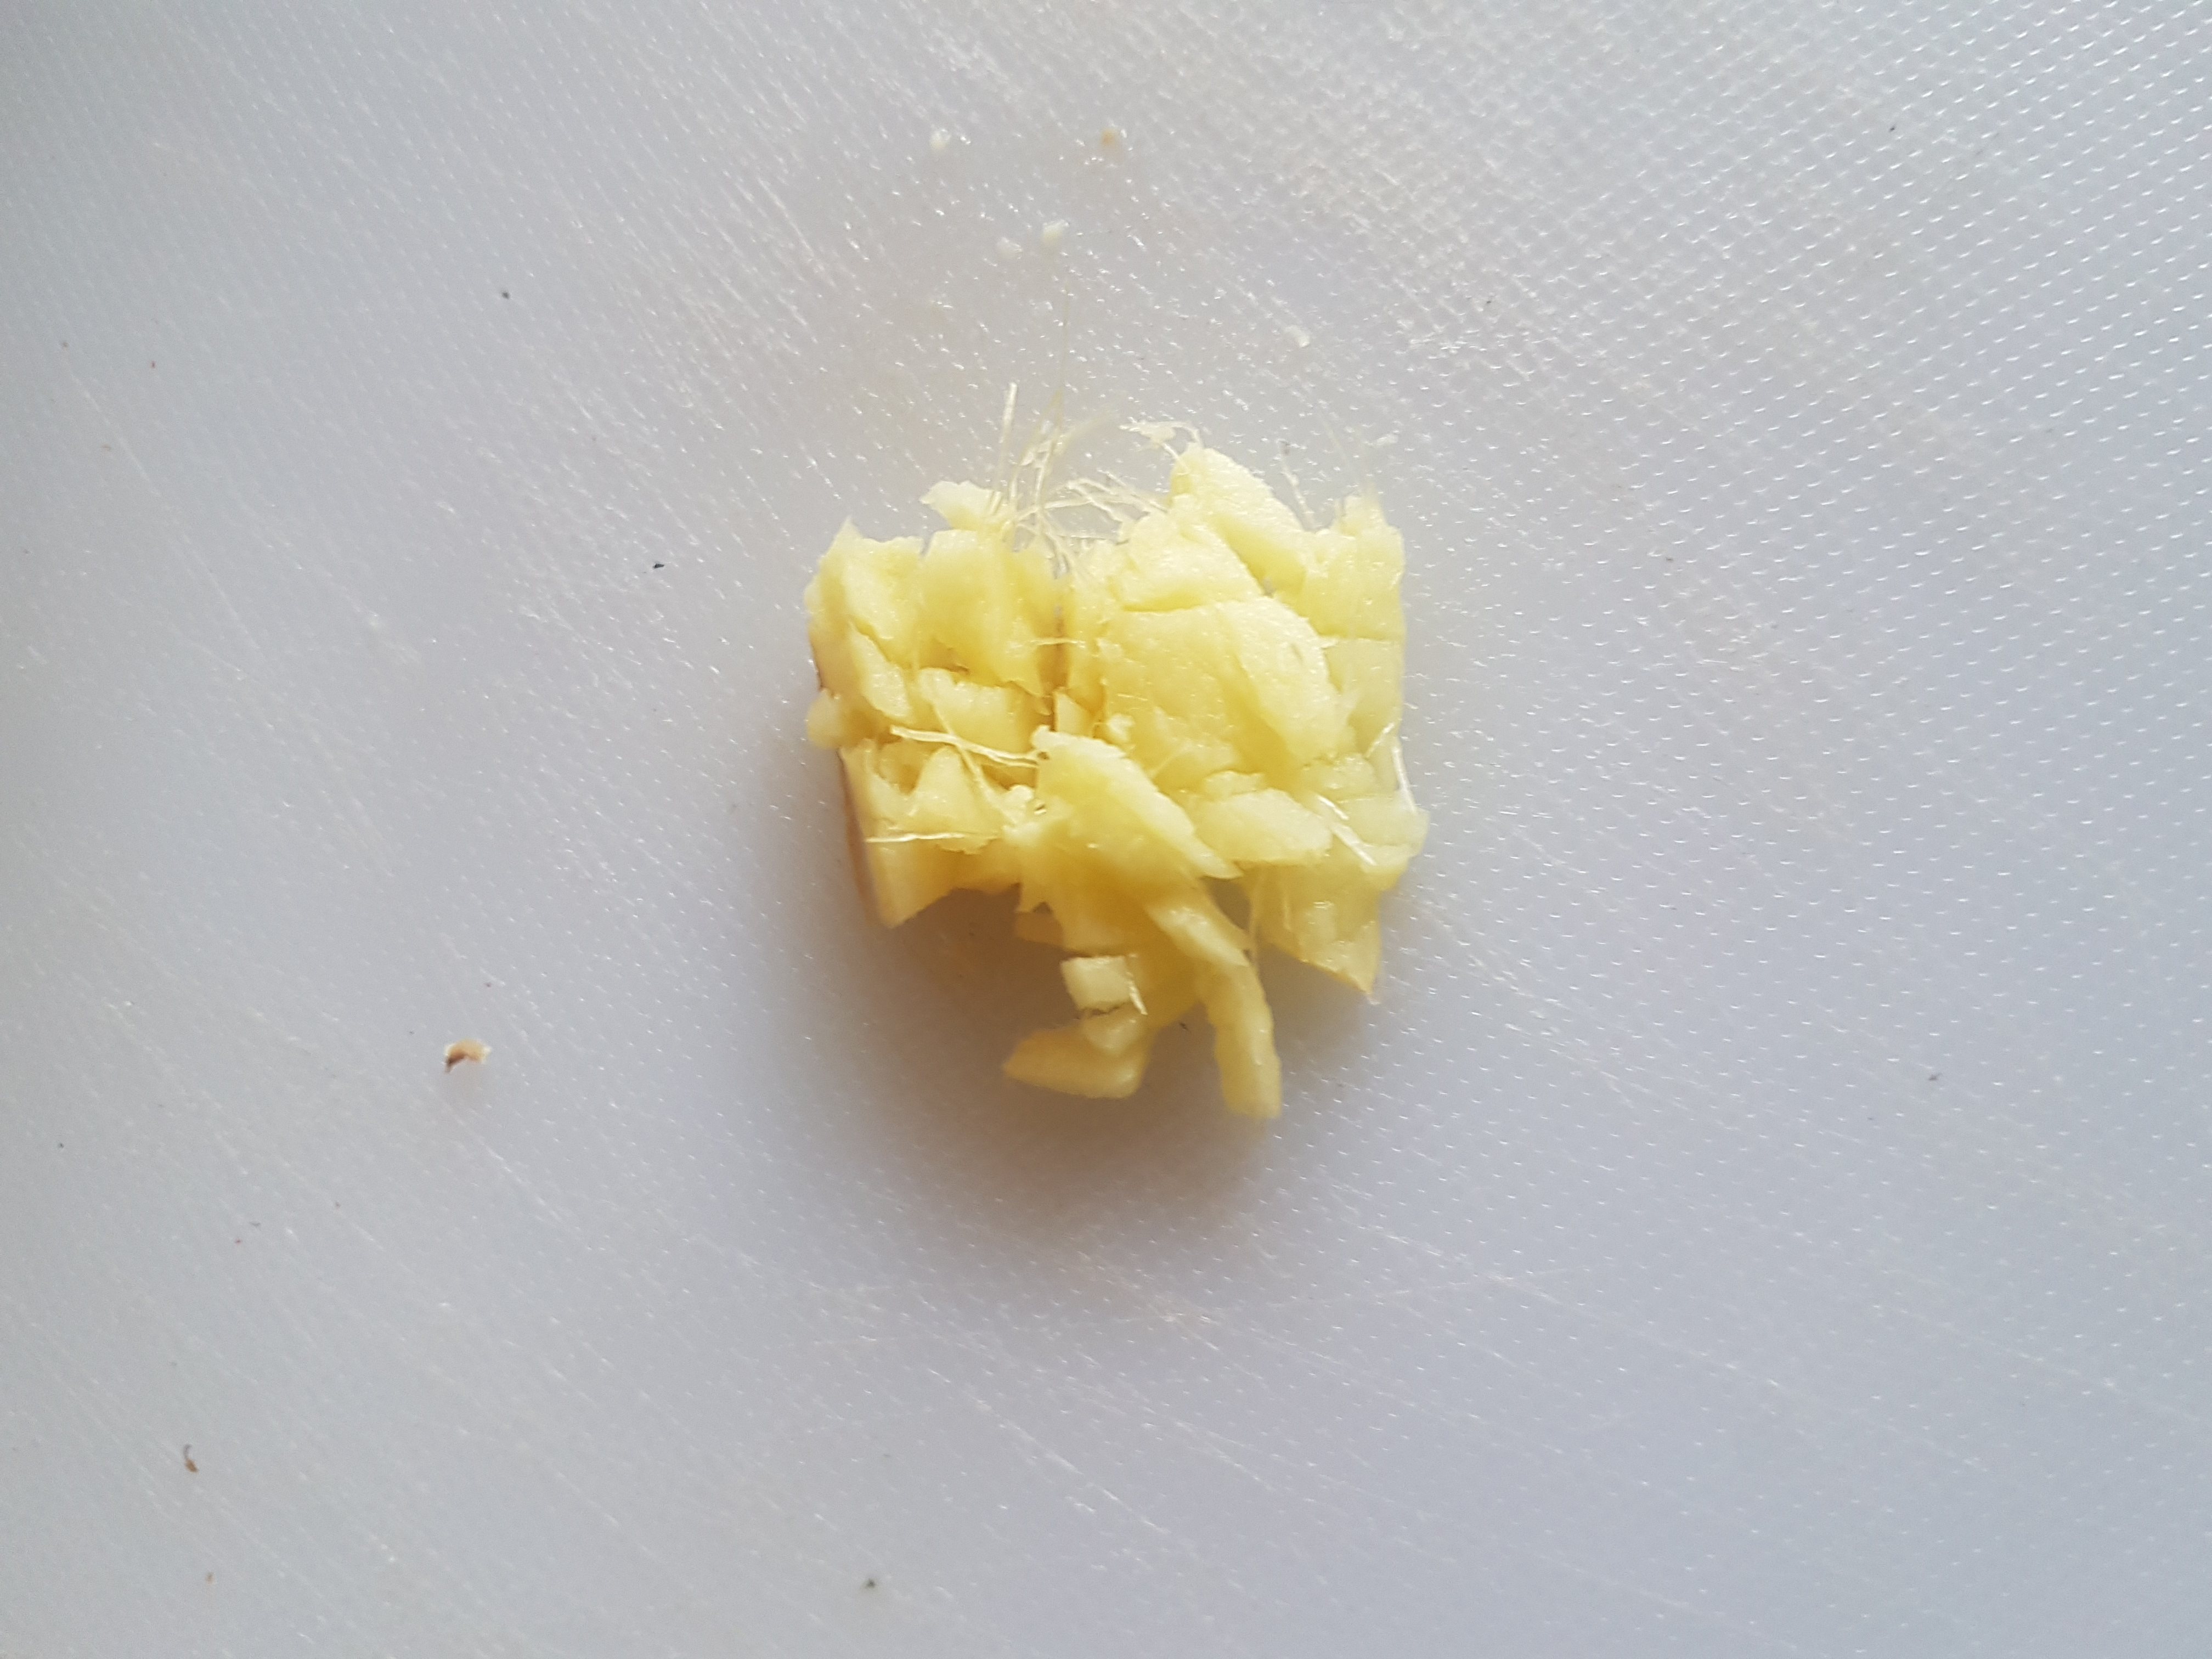Minced ginger: (765, 420, 1468, 1134)
